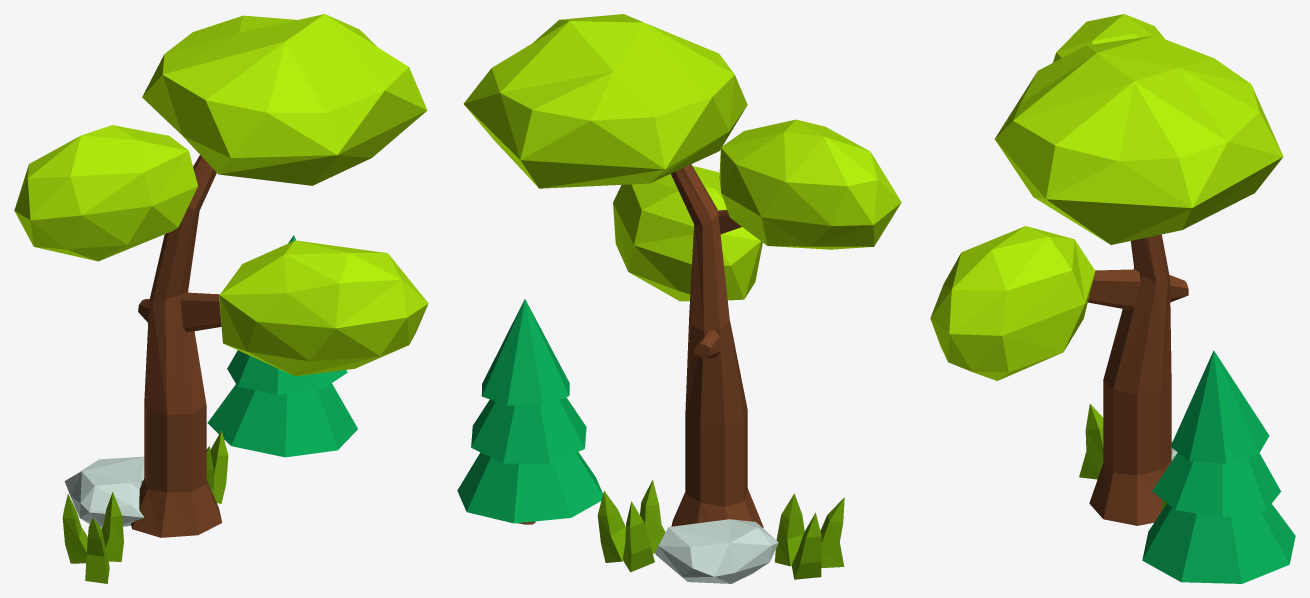
Rendered from tree1.glb.
3 views of the same model, side by side, from view 1: azimuth 30°, elevation 25°; view 2: azimuth 150°, elevation 25°; view 3: azimuth 270°, elevation 25° (orthographic). The views are drawn at different scales.
Visible parts, largest first — view 1: Sphere_1, Sphere_2, древо, Sphere, ель, Sphere_4, Cone_1, Pyramid_2, Pyramid_1, трава_1, трава; view 2: Sphere_1, Sphere, древо, Sphere_2, ель, Cone_1, Sphere_4, Cone_2, трава, трава_1, Pyramid_1_2, Pyramid_1 (+2 smaller); view 3: Sphere_1, древо, Sphere_2, ель, Cone_2, Cone_1, Sphere, Pyramid_2.
Part boxes in pixels (<box>): Sphere_1: <box>142,14,427,185</box>; Sphere_2: <box>219,240,428,376</box>; древо: <box>131,155,222,537</box>; Sphere: <box>14,125,197,261</box>; ель: <box>207,383,357,457</box>; Sphere_4: <box>64,456,144,527</box>; Cone_1: <box>227,350,347,394</box>; Pyramid_2: <box>85,518,109,583</box>; Pyramid_1: <box>62,494,87,563</box>; трава_1: <box>101,492,123,561</box>; трава: <box>210,430,228,503</box>; Sphere_1: <box>463,14,747,188</box>; Sphere: <box>719,119,901,249</box>; древо: <box>671,164,763,527</box>; Sphere_2: <box>613,166,762,301</box>; ель: <box>457,452,602,523</box>; Cone_1: <box>471,397,586,463</box>; Sphere_4: <box>655,519,778,583</box>; Cone_2: <box>481,299,569,405</box>; трава: <box>597,490,625,562</box>; трава_1: <box>775,493,804,566</box>; Pyramid_1_2: <box>623,501,654,572</box>; Pyramid_1: <box>792,513,821,579</box>; Sphere_1: <box>995,35,1283,244</box>; древо: <box>1088,234,1188,525</box>; Sphere_2: <box>930,226,1095,380</box>; ель: <box>1142,503,1295,583</box>; Cone_2: <box>1170,350,1269,463</box>; Cone_1: <box>1152,452,1280,517</box>; Sphere: <box>1053,14,1164,62</box>; Pyramid_2: <box>1079,403,1103,479</box>.
Bounding box in the file's own units: 7 × 8.44 × 5.35.
